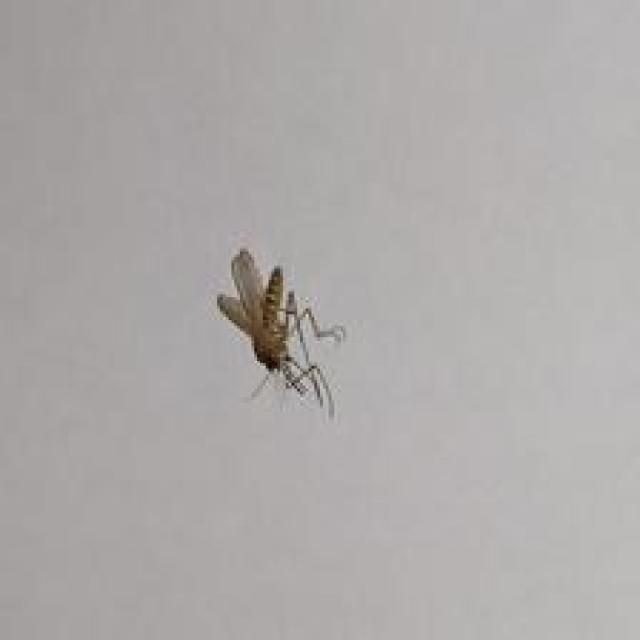Culex: (214, 246, 346, 420)
